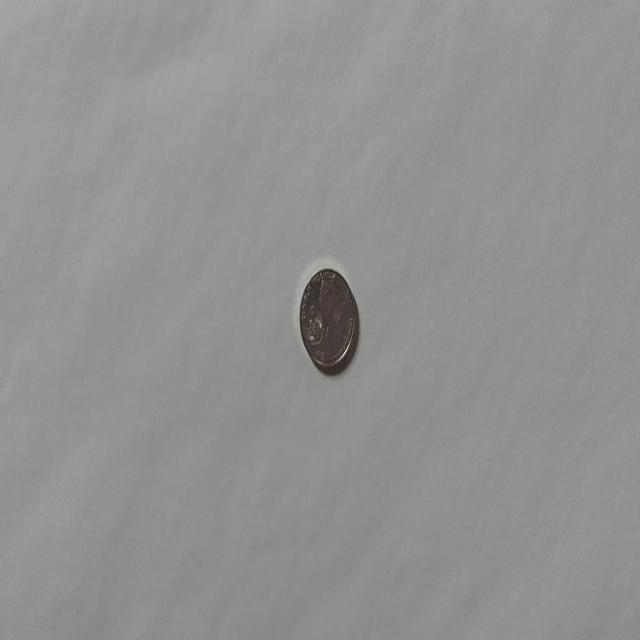dua ratus rupiah: (298, 266, 358, 374)
